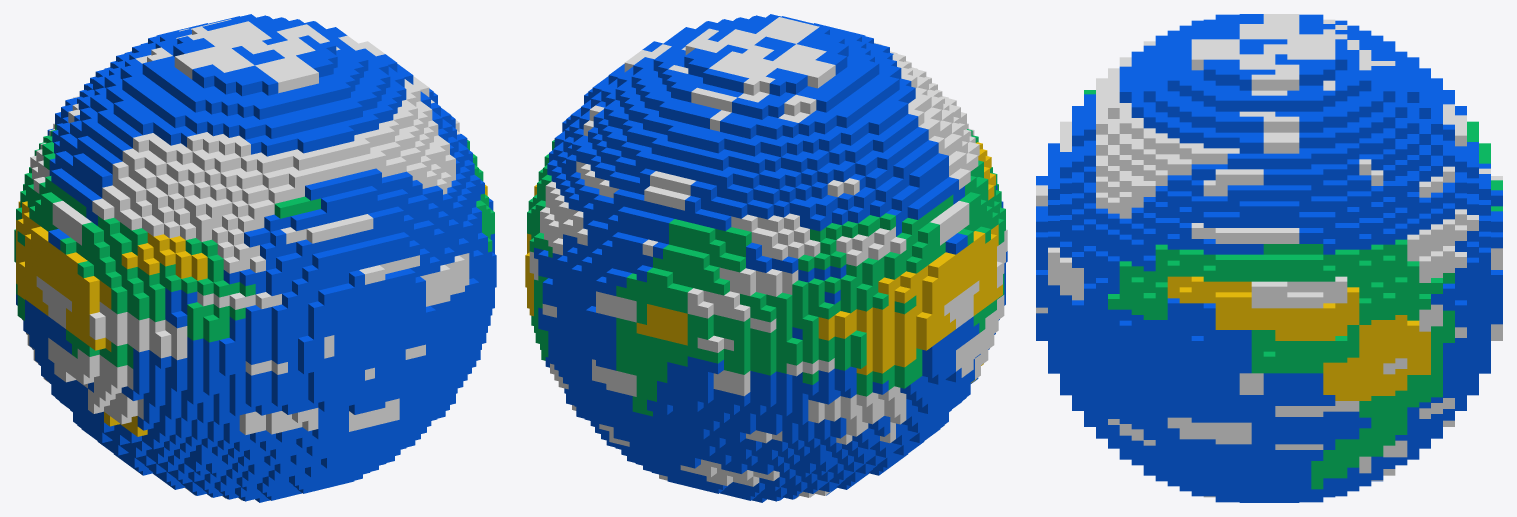
File: earth.fbx
3 renders of one model, left to right at view 1: azimuth 30°, elevation 25°; view 2: azimuth 150°, elevation 25°; view 3: azimuth 270°, elevation 25°, orthographic. The views are drawn at different scales.
Visible parts, largest first — view 1: earth4:Mesh; view 2: earth4:Mesh; view 3: earth4:Mesh.
Part boxes in pixels (box(x1,y1,x2,y2)): earth4:Mesh: box(14, 14, 496, 502); earth4:Mesh: box(525, 14, 1007, 502); earth4:Mesh: box(1036, 14, 1502, 502).
Bounding box in the file's own units: 40 × 39 × 39.
Materials: 1 (1 with a texture image).
